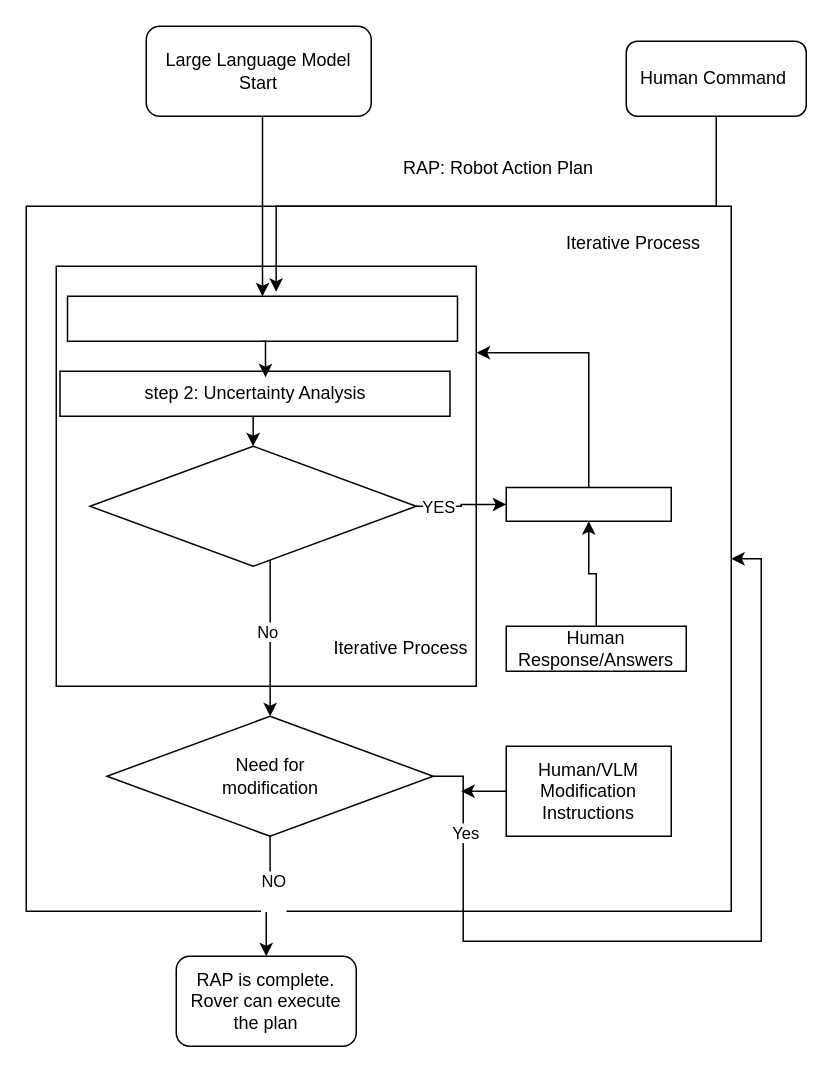
This 833x1073 diagram has some shape labels left out. Each missing label, with the centre of its shape:
"Clarifying questions" goes at (588,503).
"Is RAP ambiguous" goes at (252,505).
"step 1: LLM makes a initial Plan from Command" goes at (262,318).
